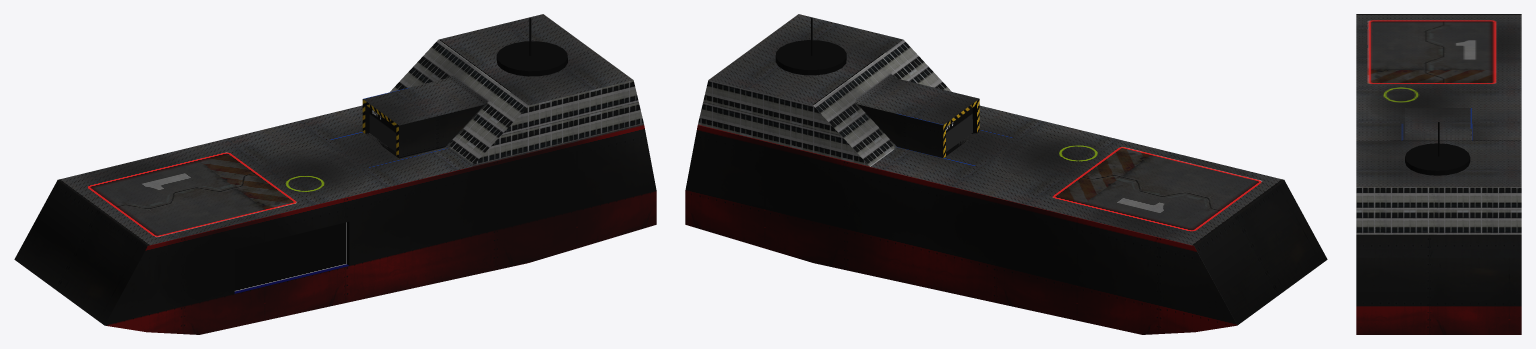
File: enemyBaseShip01.fbx
3 views of the same model, side by side, from view 1: azimuth 30°, elevation 25°; view 2: azimuth 150°, elevation 25°; view 3: azimuth 270°, elevation 25° (orthographic). The views are drawn at different scales.
Visible parts, largest first — view 1: polySurface1; view 2: polySurface1; view 3: polySurface1.
Boxes of the visible parts, <box> form: polySurface1: <box>14,14,656,334</box>; polySurface1: <box>685,14,1327,334</box>; polySurface1: <box>1356,14,1521,334</box>.
Size of the model in its own units: 34.11 by 11.82 by 9.66.
